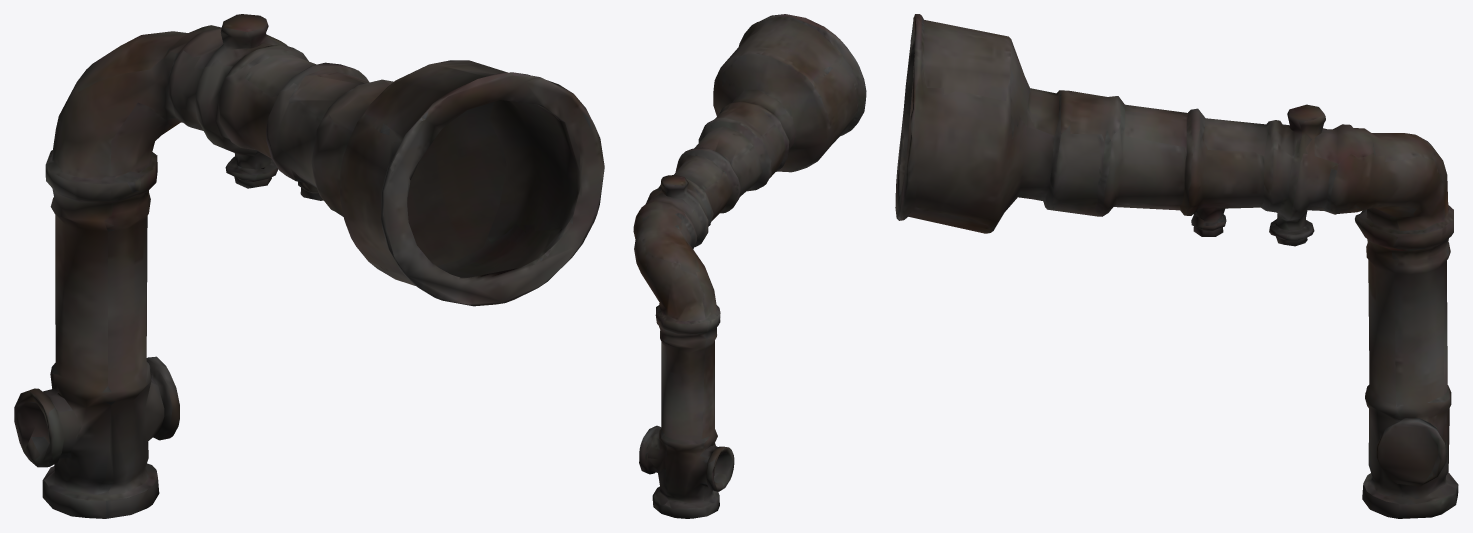
The model's file is worn-iron-drainpipe-v001.glb.
3 renders of one model, left to right at view 1: azimuth 30°, elevation 25°; view 2: azimuth 150°, elevation 25°; view 3: azimuth 270°, elevation 25°, orthographic. The views are drawn at different scales.
Parts seen in each view (by area): view 1: worn-iron-drainpipe; view 2: worn-iron-drainpipe; view 3: worn-iron-drainpipe.
Part boxes in pixels (x1,y1,x2,y2): worn-iron-drainpipe: (14, 14, 604, 518); worn-iron-drainpipe: (633, 14, 866, 518); worn-iron-drainpipe: (895, 14, 1458, 518).
Bounding box in the file's own units: 1.33 × 2.84 × 2.81.
Materials: 1 (1 with a texture image).
